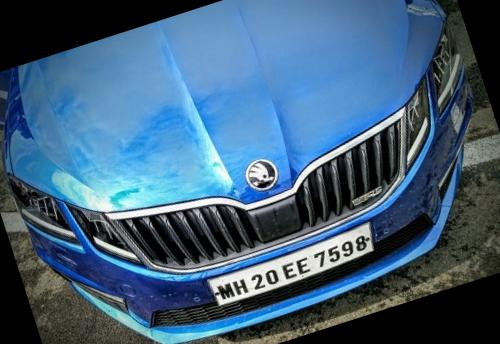plate: (199, 222, 391, 316)
